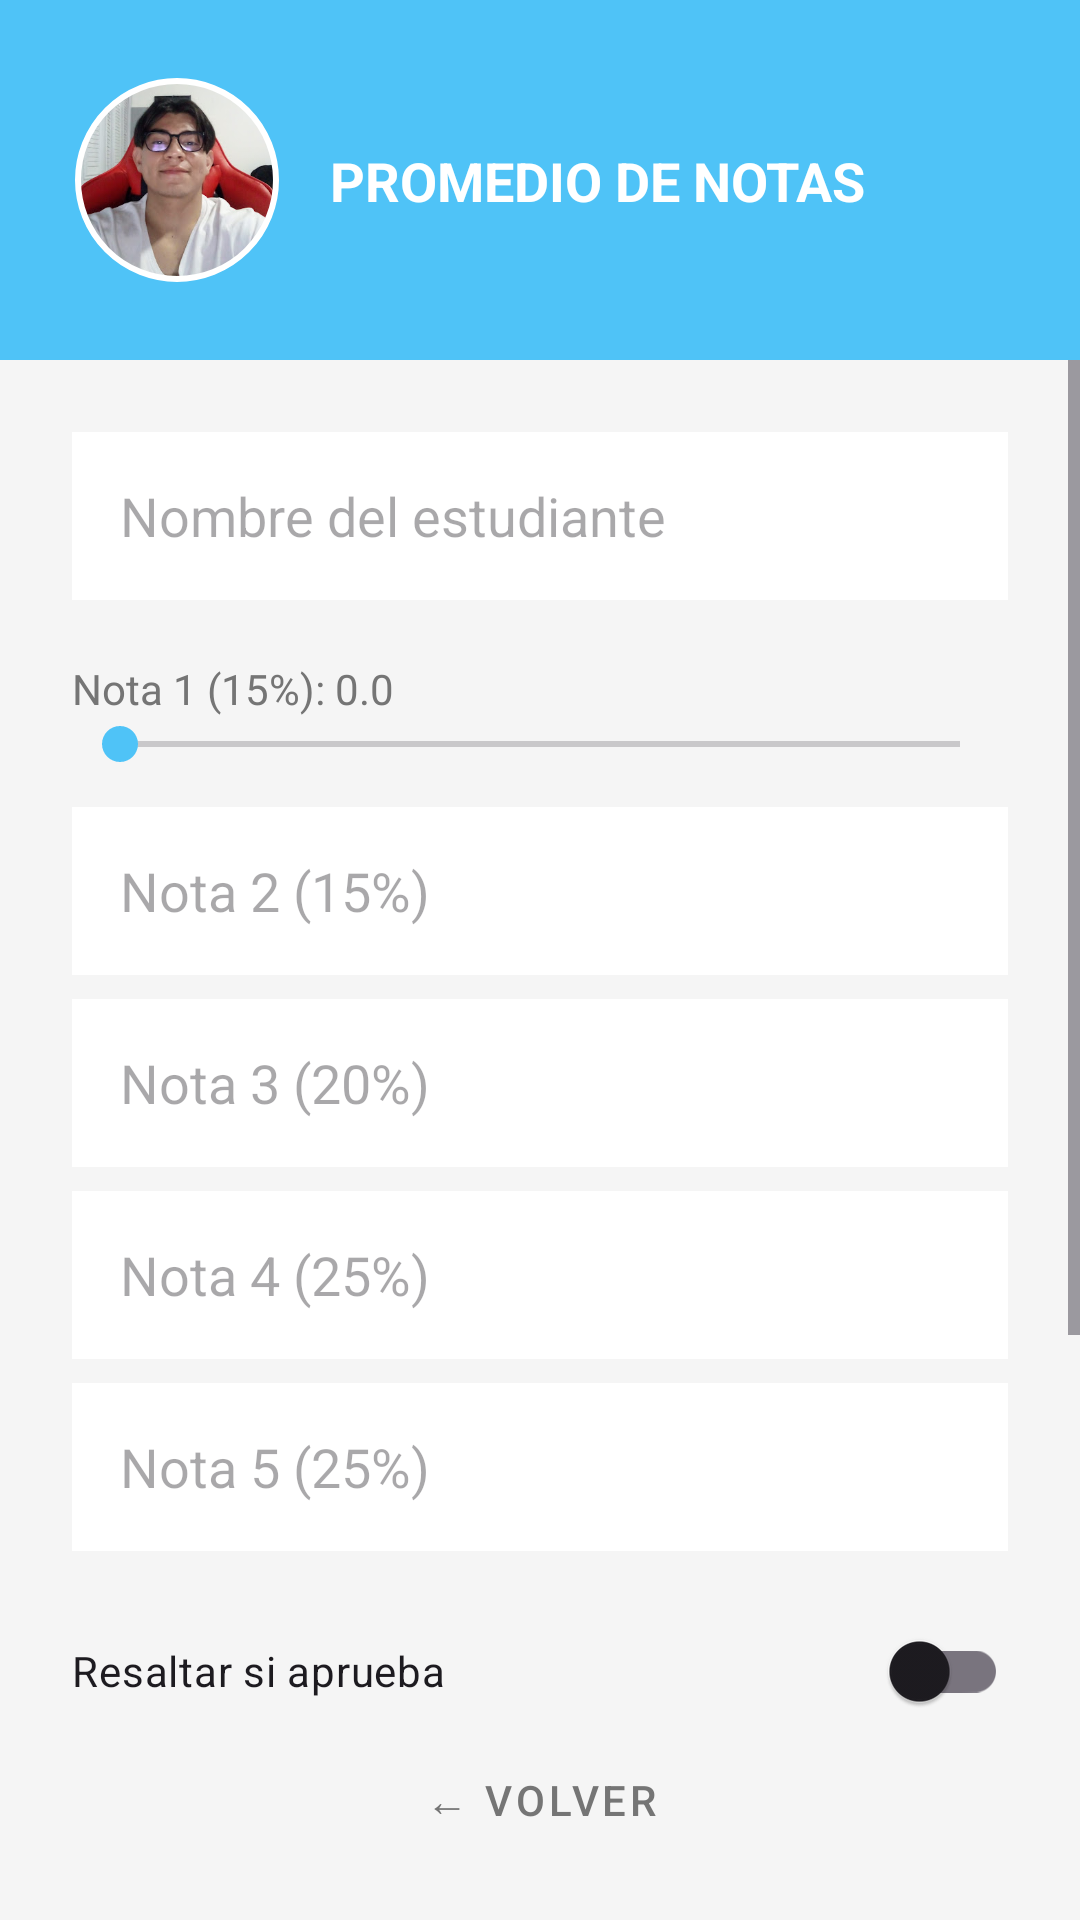

Where icons sit on this 1080x1920 app screen, as (x1, y1, x2, y2):
mi foto: (75, 78, 279, 282)
